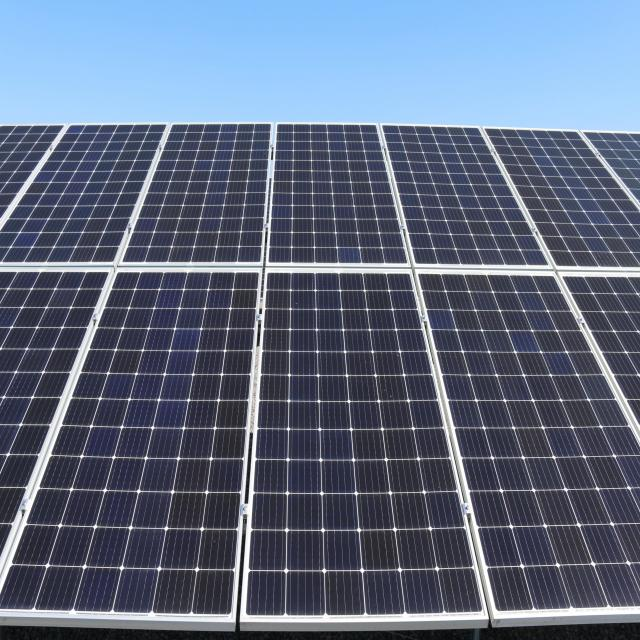no faulty: (0, 270, 261, 616), (243, 270, 483, 616), (422, 272, 640, 602), (0, 272, 97, 553), (385, 123, 550, 265), (1, 119, 164, 261), (122, 118, 267, 277), (489, 132, 640, 263), (269, 130, 402, 270)
